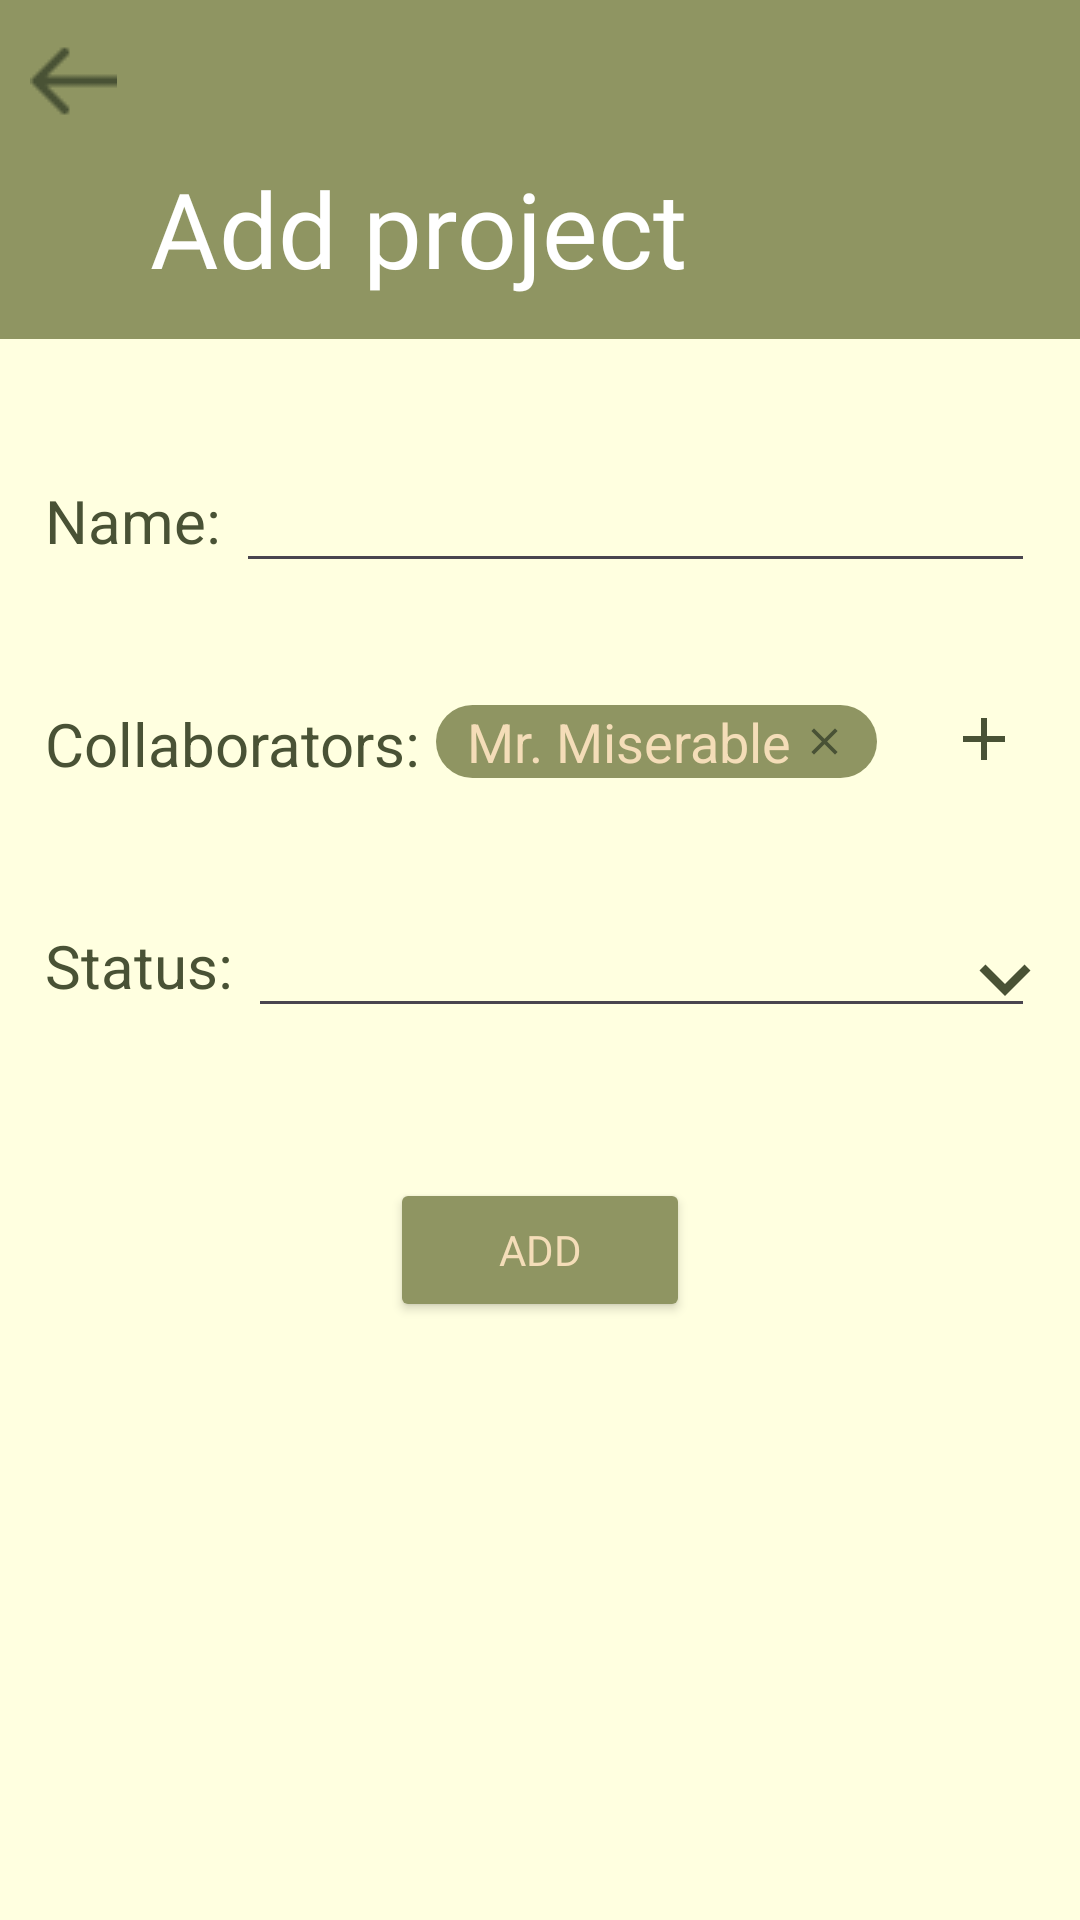

Screen size 1080 × 1920. Icon name, then its box in pixels as (x1, y1, x2, y2):
add: (963, 718, 1005, 760)
arrow: (30, 48, 117, 114)
expand more: (979, 964, 1031, 996)
